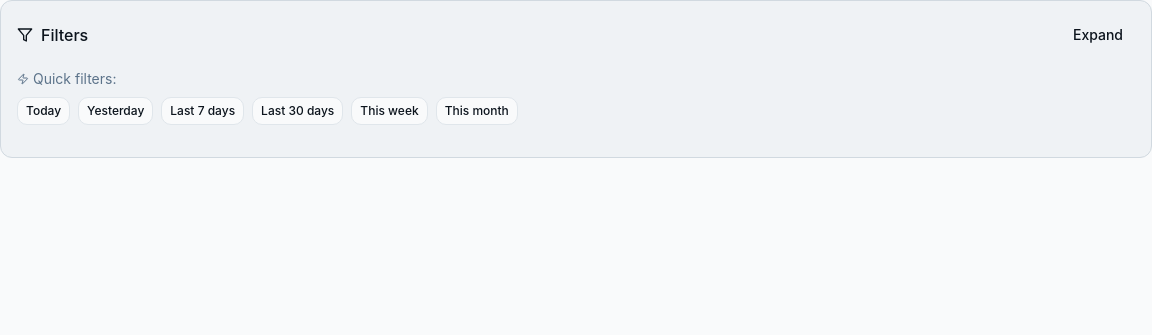
Test: FilterBar › expand/collapse functionality › should expand when expand button is clicked
The width and height of the screenshot is (1152, 335).
Click the button "Expand". click: [1098, 35]
box: 1061,17 -> 1135,53
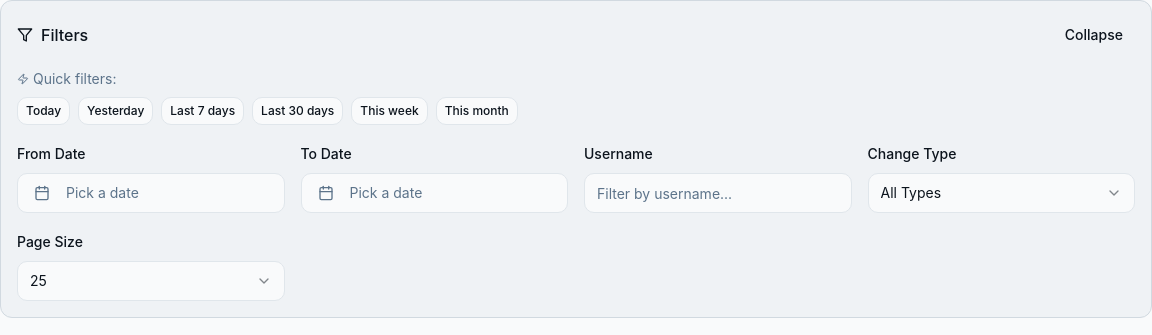
expect the button "Collapse" is shown: met, box 1053,17 -> 1135,53
expect the text "From Date" is shown: met, box 17,145 -> 86,162
expect the text "To Date" is shown: met, box 300,145 -> 352,162
